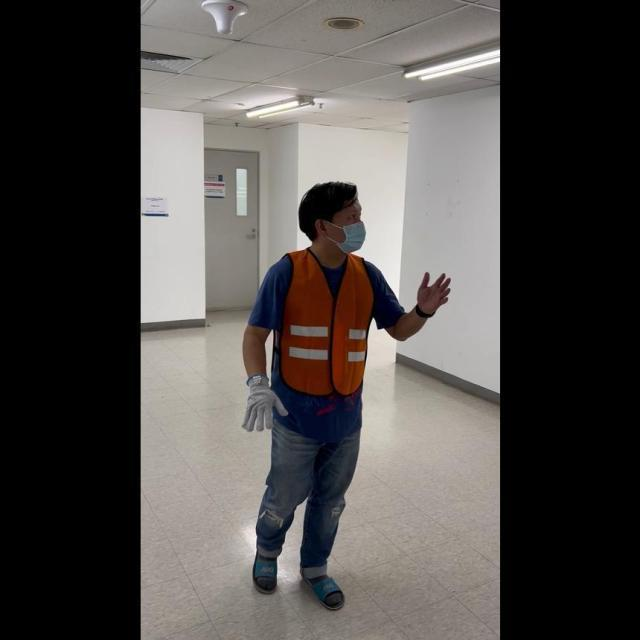bare_hand: (414, 266, 450, 315)
gloved_hand: (240, 371, 286, 432)
